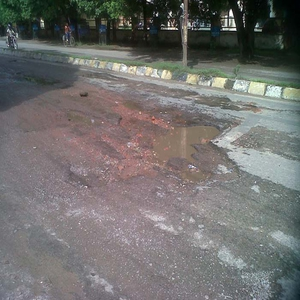pothole: (147, 121, 240, 185)
